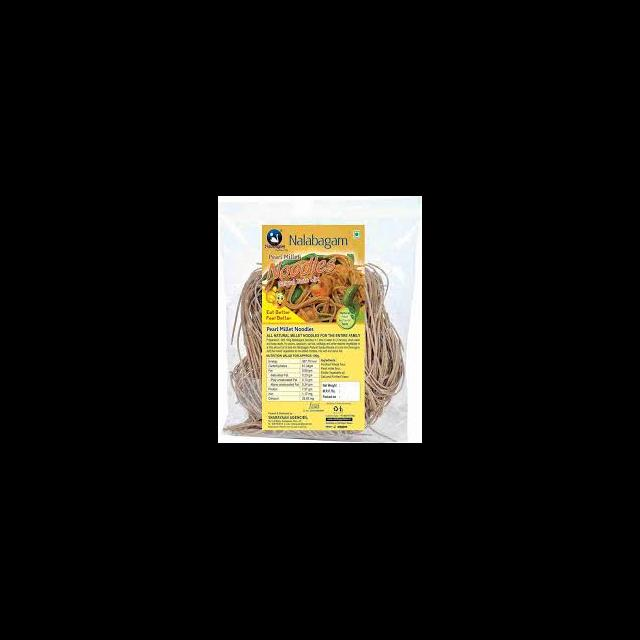noodles: (228, 214, 413, 442)
